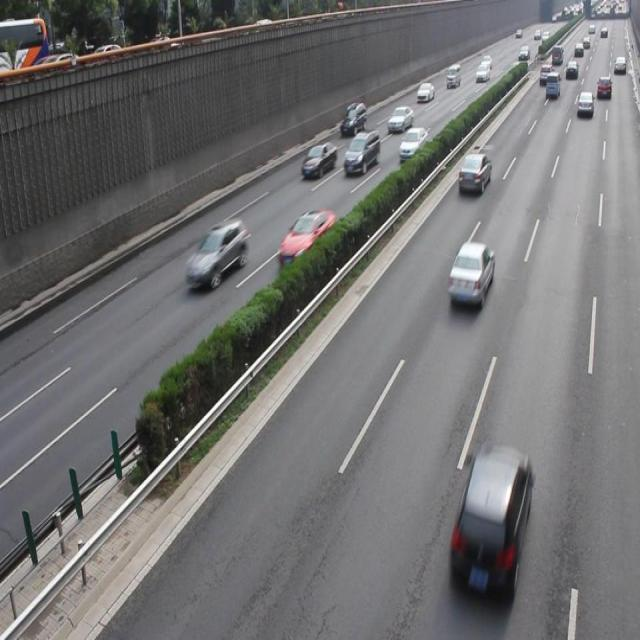car: (448, 440, 530, 598), (184, 216, 248, 287), (276, 210, 336, 269), (447, 241, 493, 307), (343, 130, 380, 174), (456, 152, 491, 194), (301, 142, 336, 180), (397, 125, 426, 161)
